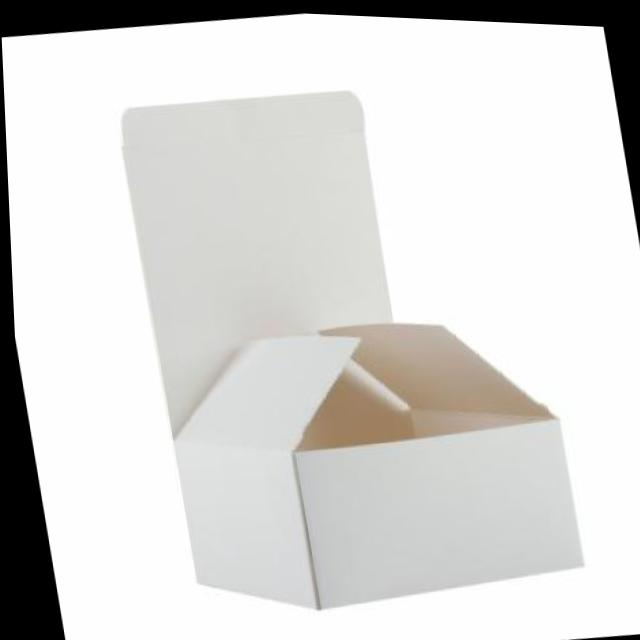box: (94, 48, 595, 639)
